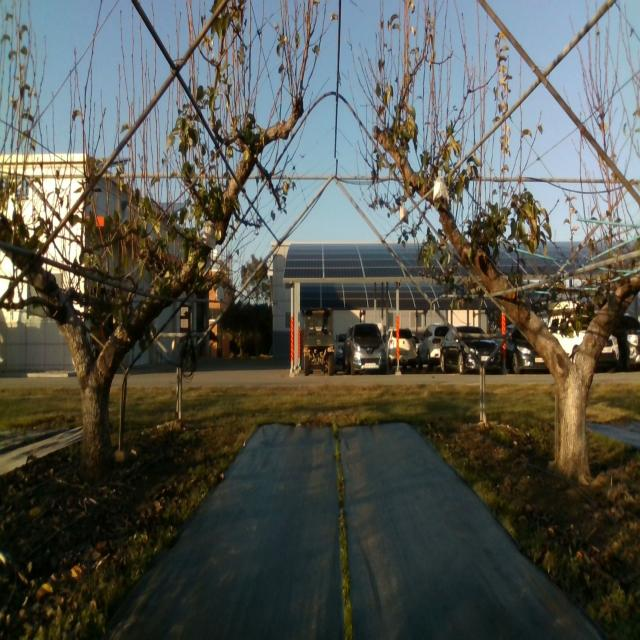pearbags: (433, 170, 450, 203), (203, 220, 216, 249)
